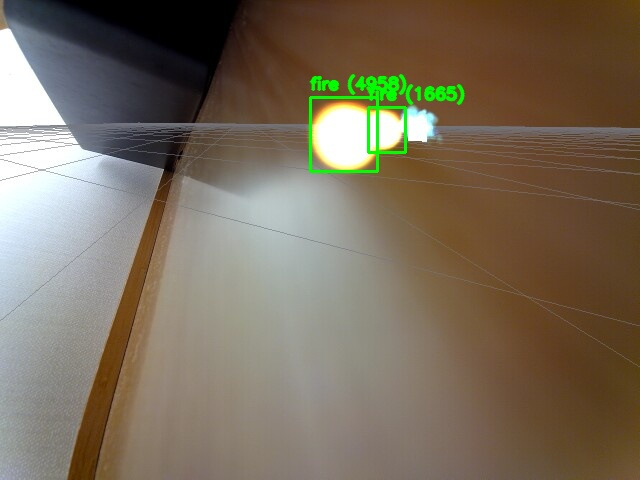fire: (310, 97, 377, 171), (368, 107, 405, 152)
